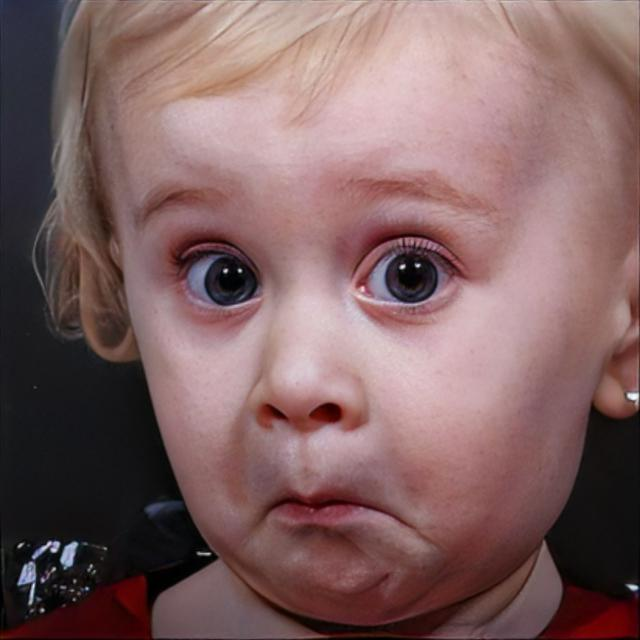fear: (101, 1, 600, 628)
